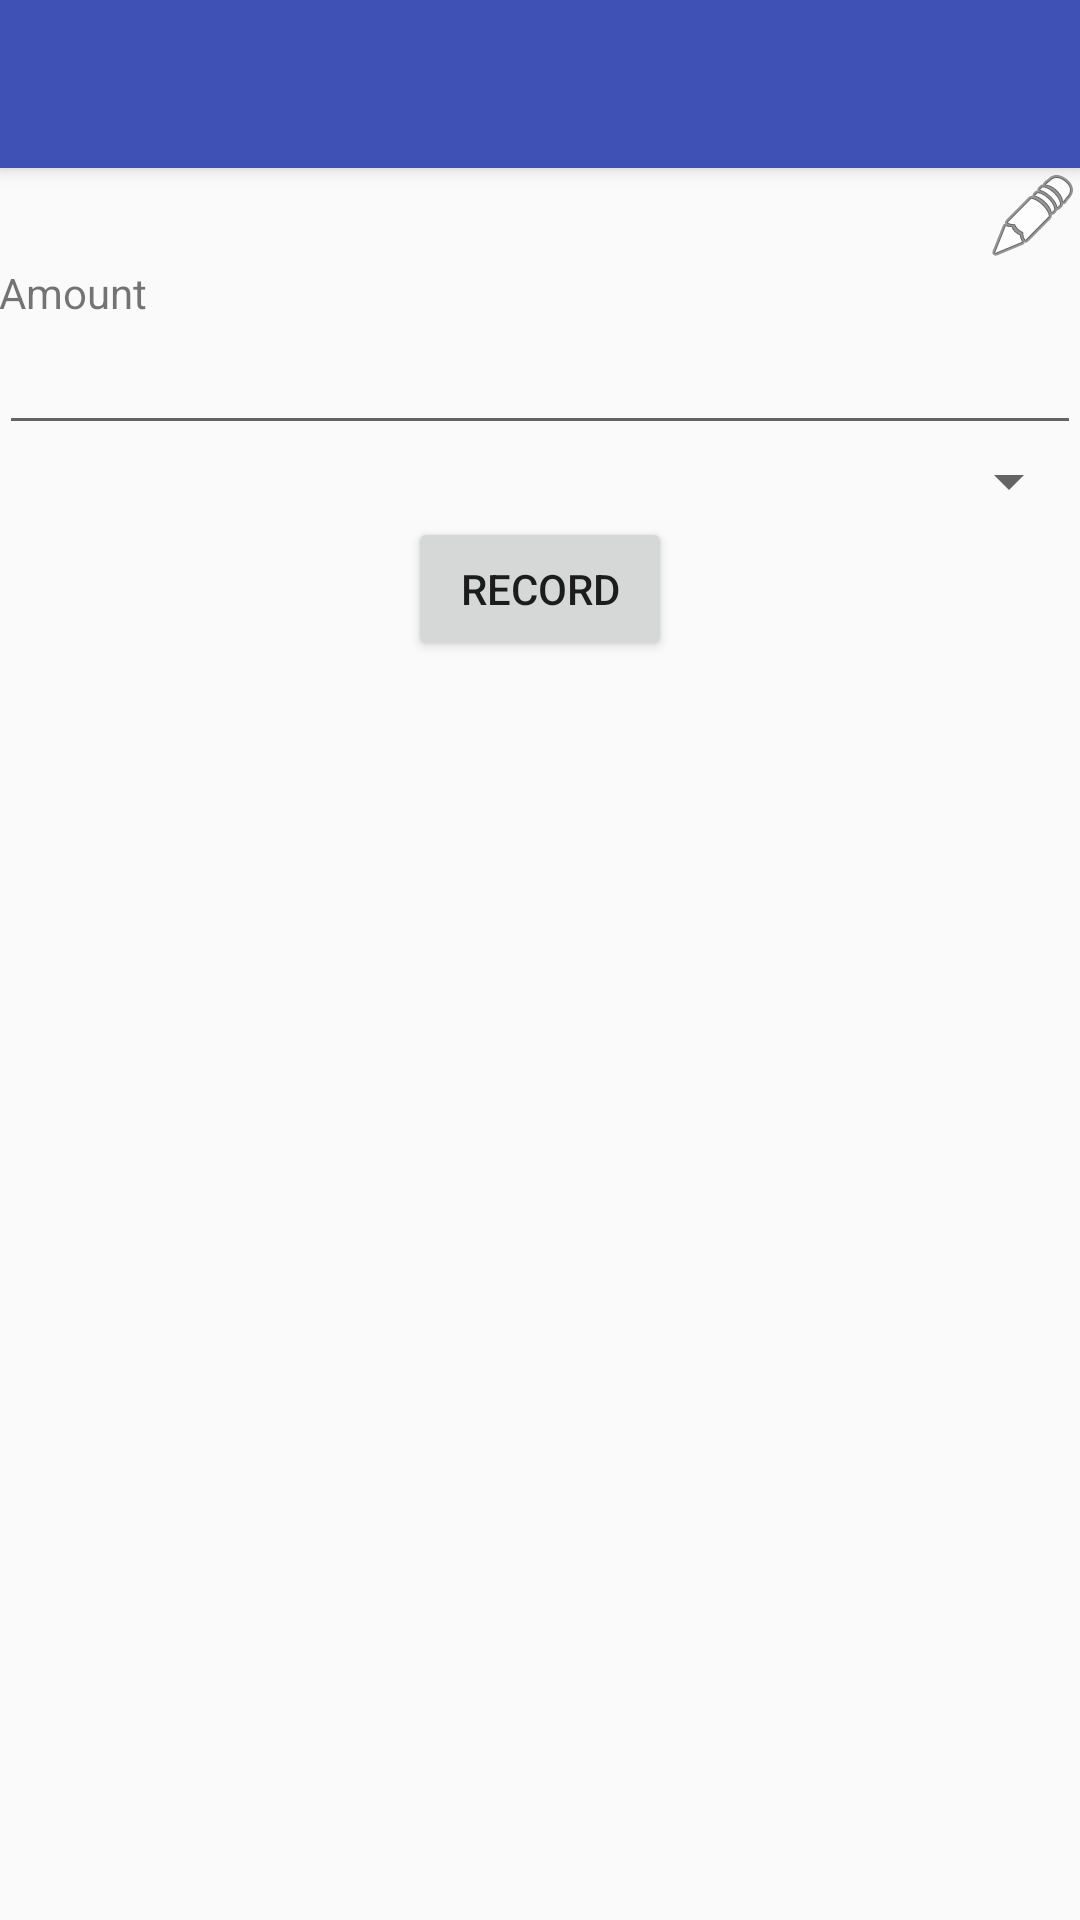

Named icons in this screenshot (1080*1920) and their bounding boxes, (x1, y1, x2, y2):
edit: (992, 175, 1073, 256)
